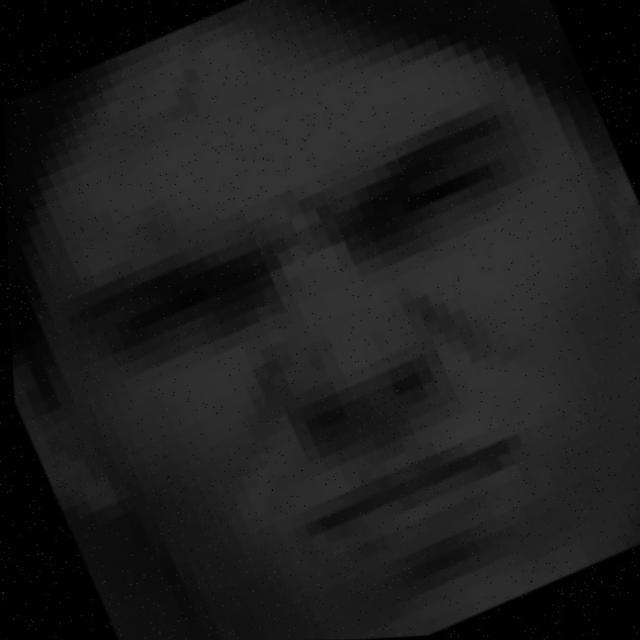Disgust: (57, 120, 640, 610)
